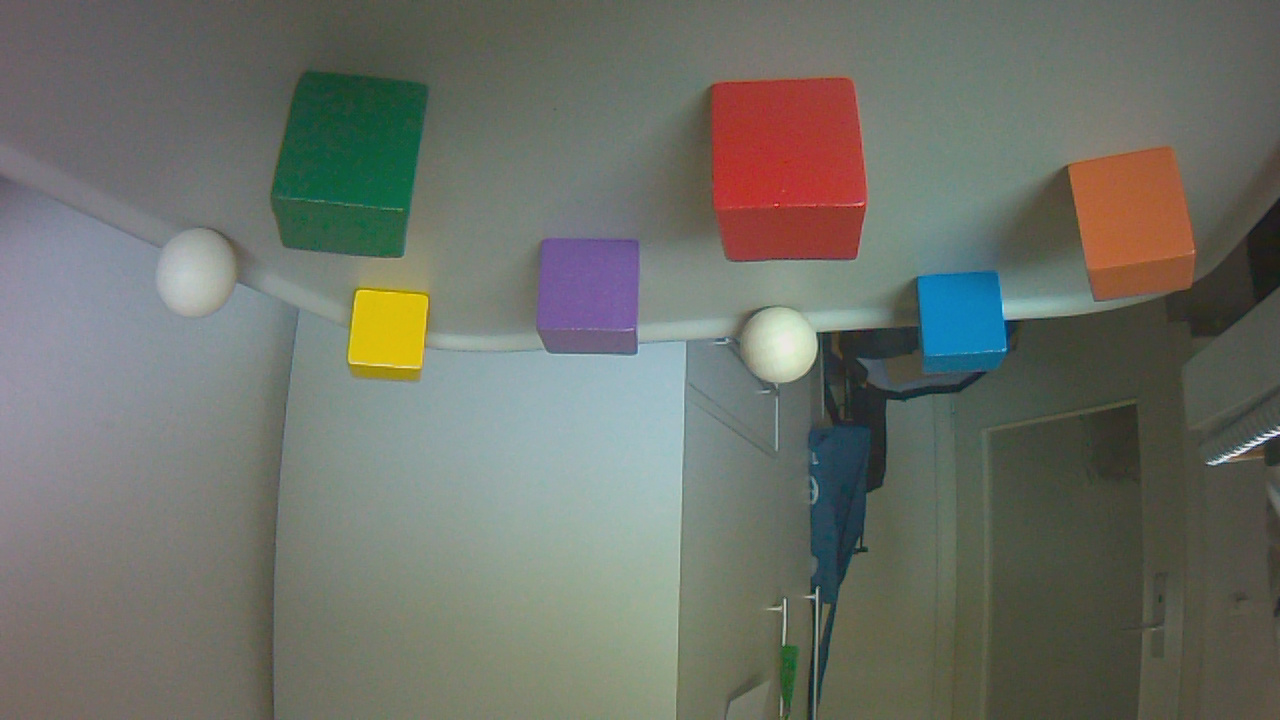ball: (156, 228, 246, 327), (740, 307, 825, 393)
cube_blue: (917, 272, 1016, 383)
cube_green: (272, 74, 436, 267)
cube_orange: (1071, 148, 1204, 310)
cube_purple: (538, 240, 651, 365)
cube_red: (712, 80, 876, 271)
cube_yellow: (349, 292, 435, 391)
